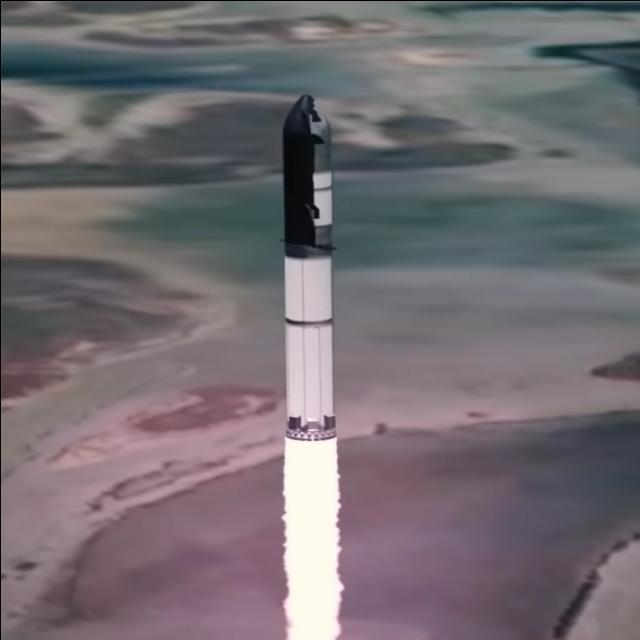Missile: (279, 73, 344, 450)
